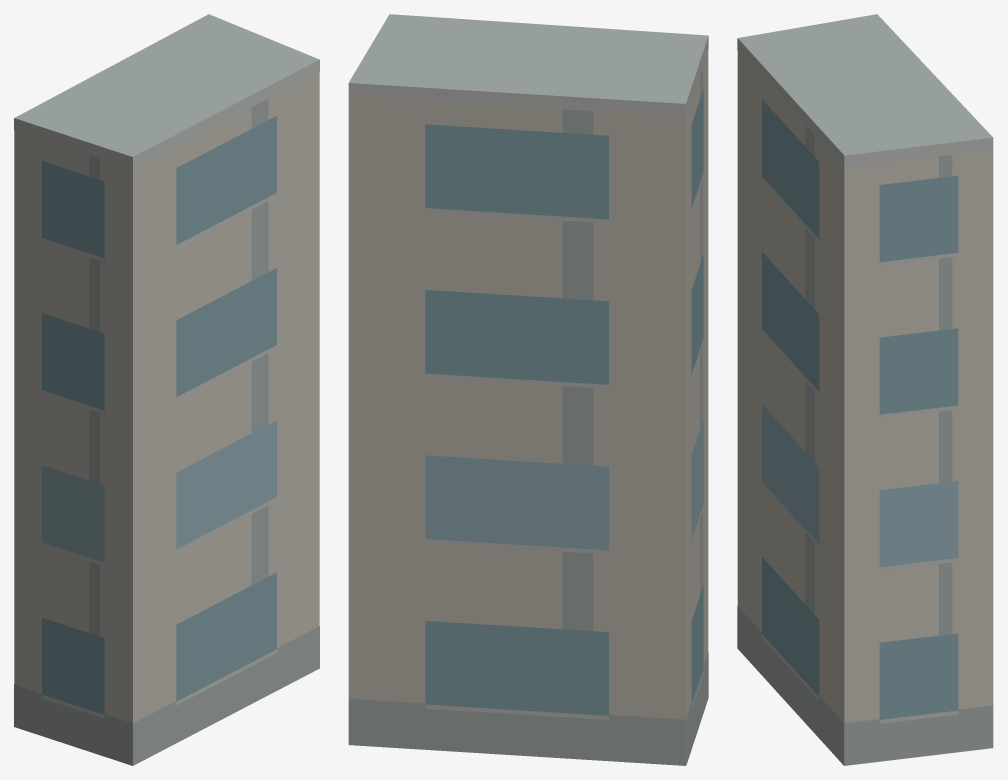
File: survey-upis-32975377.glb
3 renders of one model, left to right at view 1: azimuth 30°, elevation 25°; view 2: azimuth 150°, elevation 25°; view 3: azimuth 270°, elevation 25°, orthographic. The views are drawn at different scales.
Visible parts, largest first — view 1: survey-upis-32975377.tmp; view 2: survey-upis-32975377.tmp; view 3: survey-upis-32975377.tmp.
Boxes of the visible parts, x1,y1,x2,y2 form: survey-upis-32975377.tmp: (14,14,319,765); survey-upis-32975377.tmp: (348,14,708,765); survey-upis-32975377.tmp: (737,14,993,765).
Bounding box in the file's own units: 6.07 × 12.2 × 4.64.
